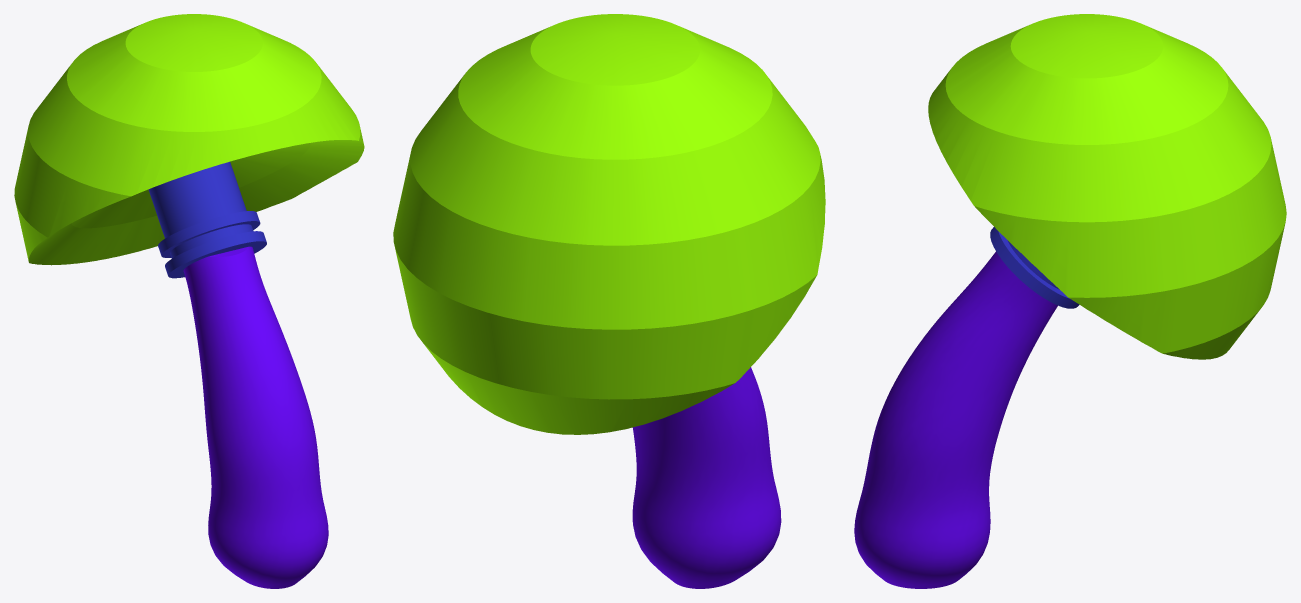
3 renders of one model, left to right at view 1: azimuth 30°, elevation 25°; view 2: azimuth 150°, elevation 25°; view 3: azimuth 270°, elevation 25°, orthographic. The views are drawn at different scales.
Visible parts, largest first — view 1: cap, stem, collar; view 2: cap, stem; view 3: cap, stem, collar.
Boxes of the visible parts, <box> form: cap: <box>14,14,364,265</box>; stem: <box>183,246,328,588</box>; collar: <box>148,161,266,278</box>; cap: <box>393,14,825,434</box>; stem: <box>632,367,781,588</box>; cap: <box>928,14,1286,359</box>; stem: <box>854,251,1057,588</box>; collar: <box>990,227,1079,308</box>.
Bounding box in the file's own units: 0.1 × 0.15 × 0.1083.
